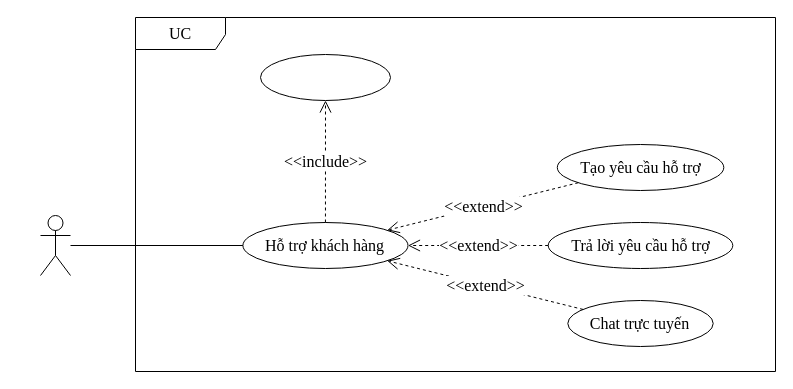
This 793x389 diagram has some shape labels left out. Each missing label, with the centre of its shape:
"Khách hàng" belongs at pixel 55 245.
"Đăng nhập" belongs at pixel 325 77.
